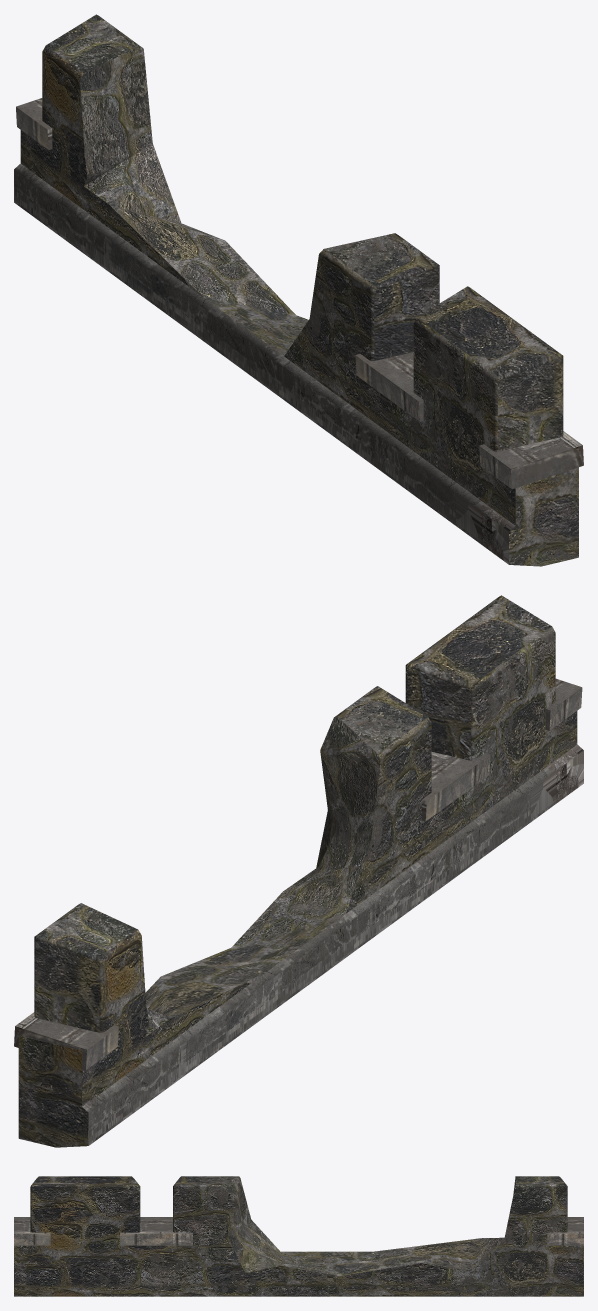
Rendered from MC_Battlements_Wall_C_8m_Broken.fbx.
The picture shows the model from 3 angles, top to bottom: view 1: azimuth 30°, elevation 25°; view 2: azimuth 150°, elevation 25°; view 3: azimuth 270°, elevation 25°; orthographic projection. The views are drawn at different scales.
Parts seen in each view (by area): view 1: MC_Battlements_Wall_C_8m_Broken_LOD0; view 2: MC_Battlements_Wall_C_8m_Broken_LOD0; view 3: MC_Battlements_Wall_C_8m_Broken_LOD0.
Boxes of the visible parts, bbox=[...] form: MC_Battlements_Wall_C_8m_Broken_LOD0: bbox=[14, 14, 583, 566]; MC_Battlements_Wall_C_8m_Broken_LOD0: bbox=[14, 595, 583, 1147]; MC_Battlements_Wall_C_8m_Broken_LOD0: bbox=[14, 1176, 583, 1296].
Size of what is drawn, in the model's own units: 69.77 by 172 by 800.
